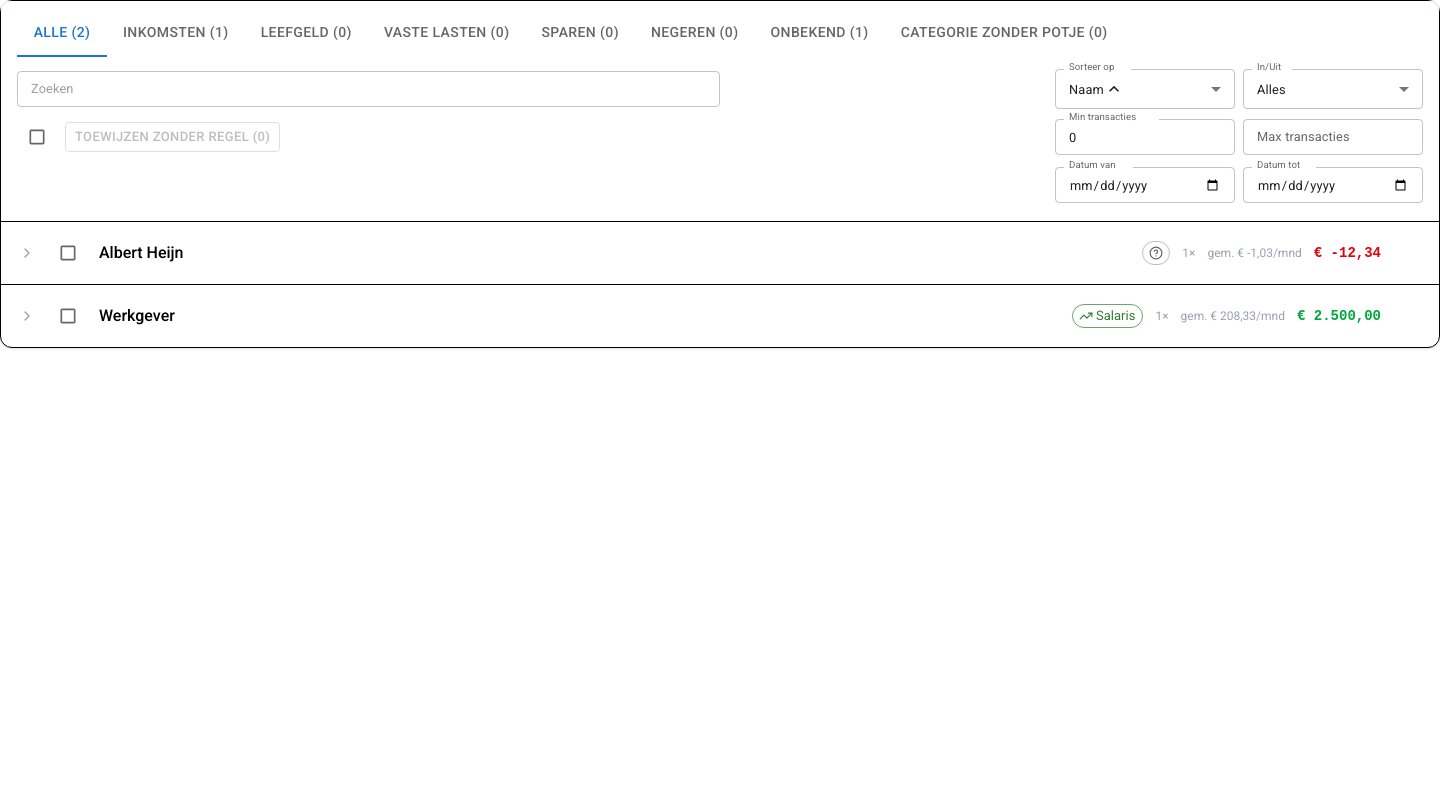
CategoryBreakdown › warns when selected groups contain already linked transactions and allows continue or cancel
The width and height of the screenshot is (1440, 810).
Click the checkbox named "alle zichtbare groepen" at (37, 137), box [27, 127, 47, 147]
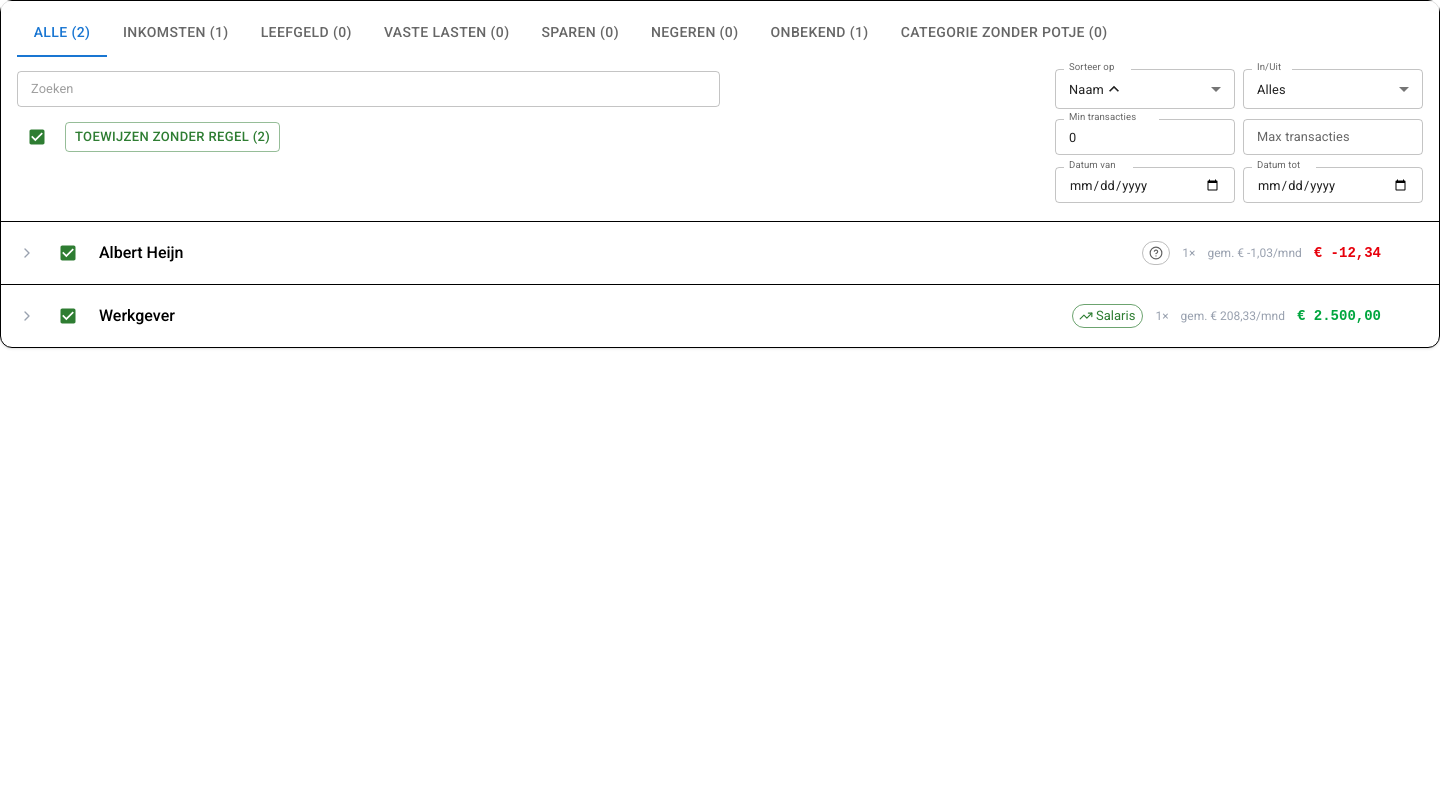
Click the button "Toewijzen zonder regel (2)" at (173, 137), box [65, 122, 280, 152]
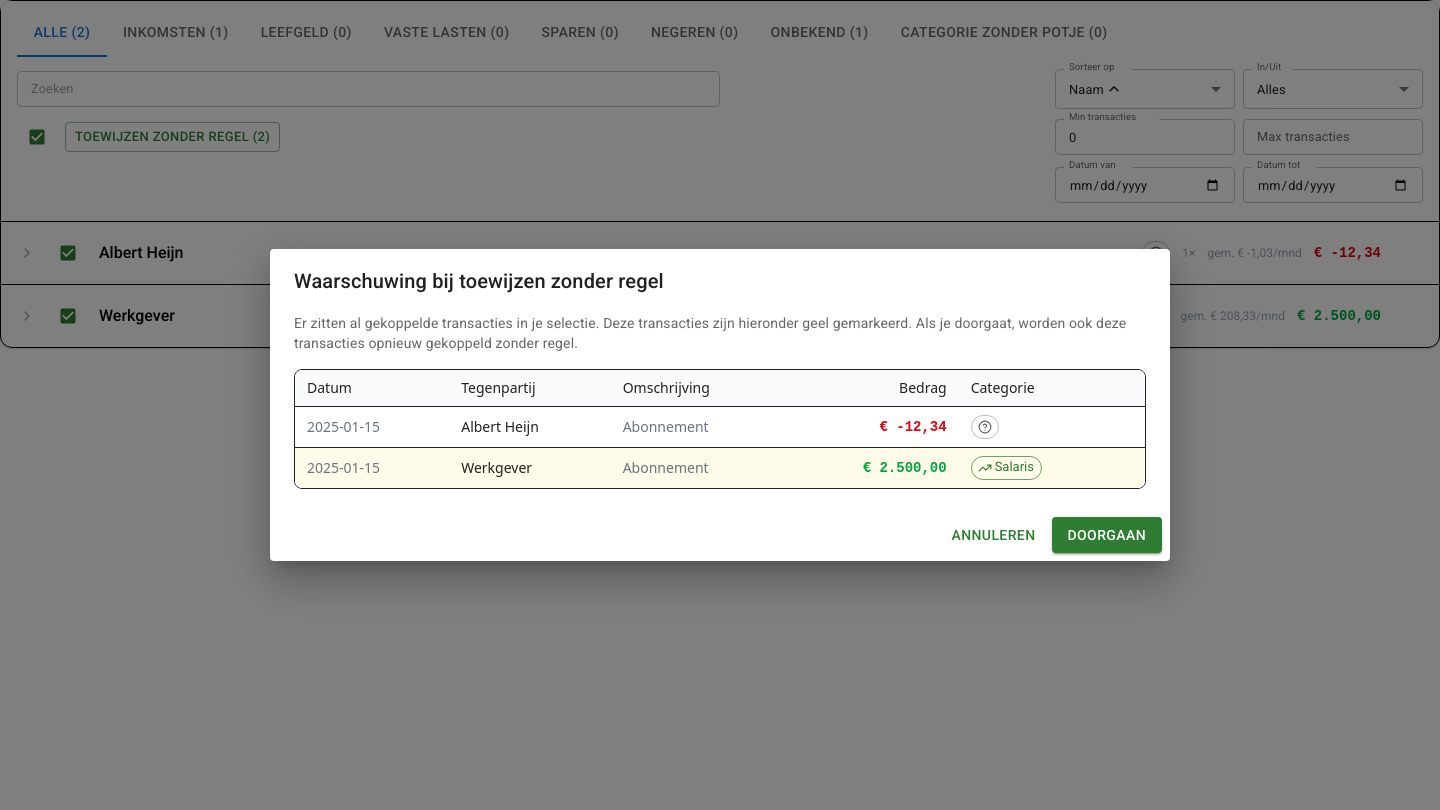
Check: the text "Er zitten al gekoppelde transacties in je selectie" is shown, box [294, 315, 1126, 351]
Check: the button "Doorgaan" is shown, box [1052, 517, 1162, 553]
Check: the button "Annuleren" is shown
Click the button "Annuleren" at (994, 535), box [944, 517, 1044, 553]
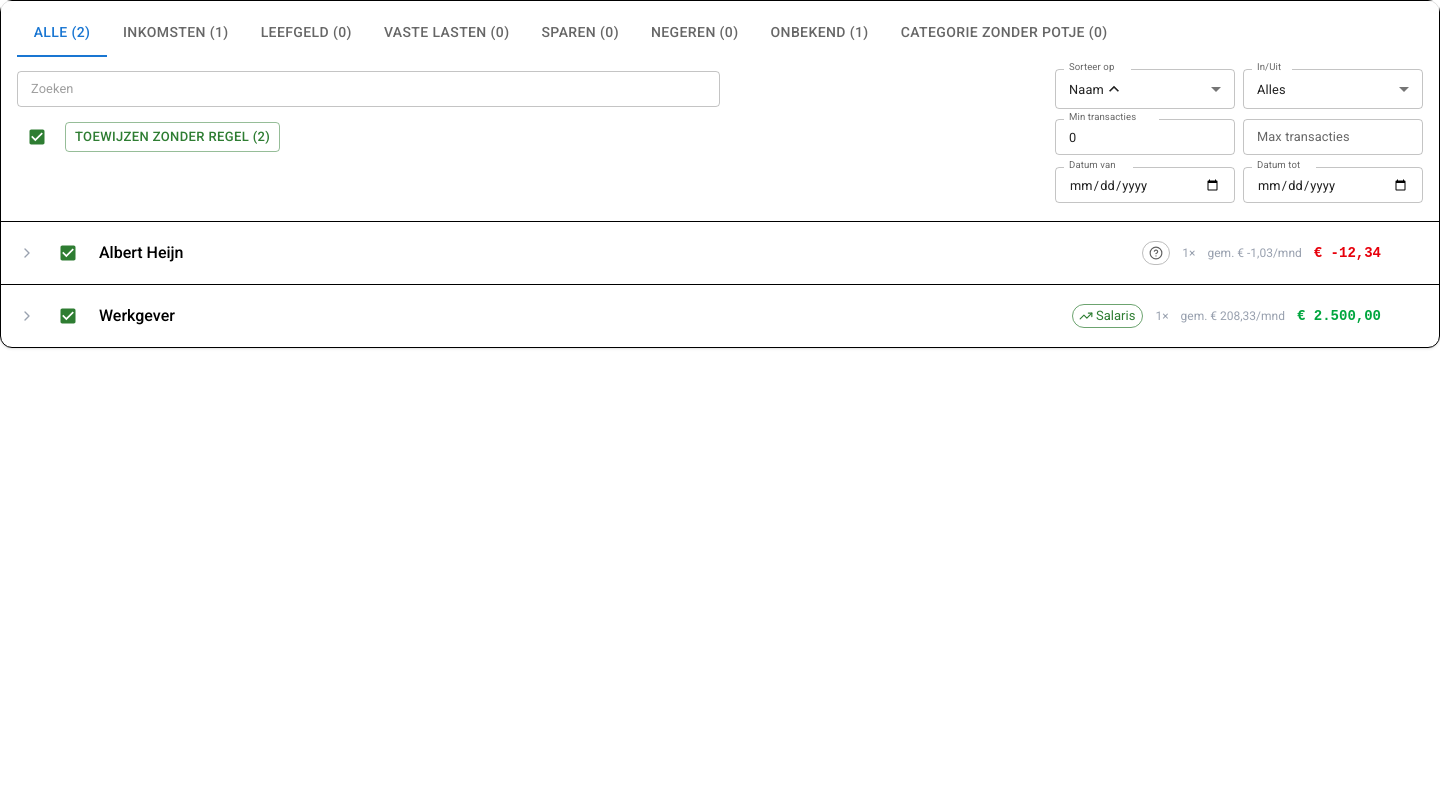
Check: the heading "Waarschuwing bij toewijzen zonder regel" is gone
